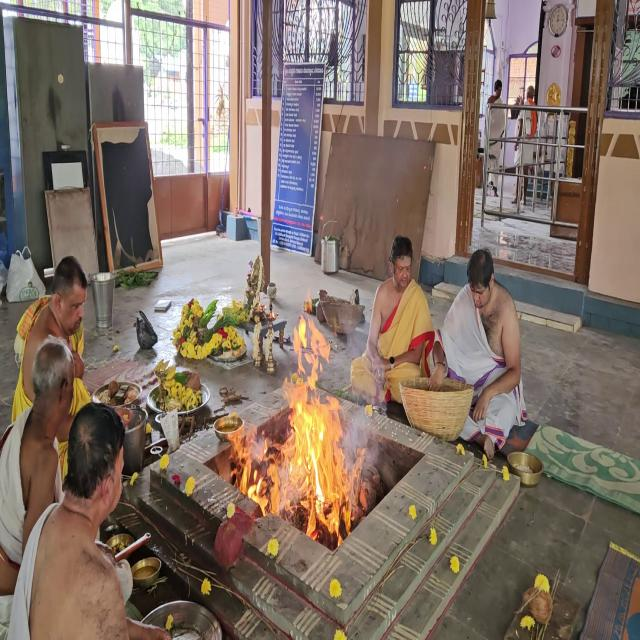fire: (225, 305, 375, 548)
